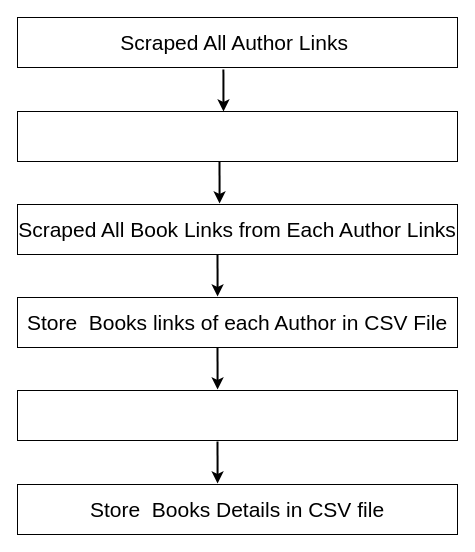
Some shapes in this 475 by 552 pixel diagram are drawn without their labels. The shapes that lost their labels are listed below. From the top down, each one's centre as x and y in pixels, then its label:
(237,136): Store Author Links in CSV File
(237,415): Scrped Book Details Form Books URL
